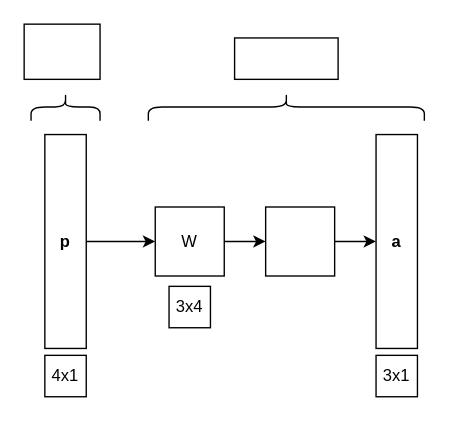
The diagram is 449 pixels wide and 421 high, and some of its shapes have lost their labels. Each missing label, with the centre of its shape:
"Couche avec hardlim" belongs at point (285, 58).
"Couche d'entrée" belongs at point (61, 51).
"hardlim(x)" belongs at point (299, 241).
